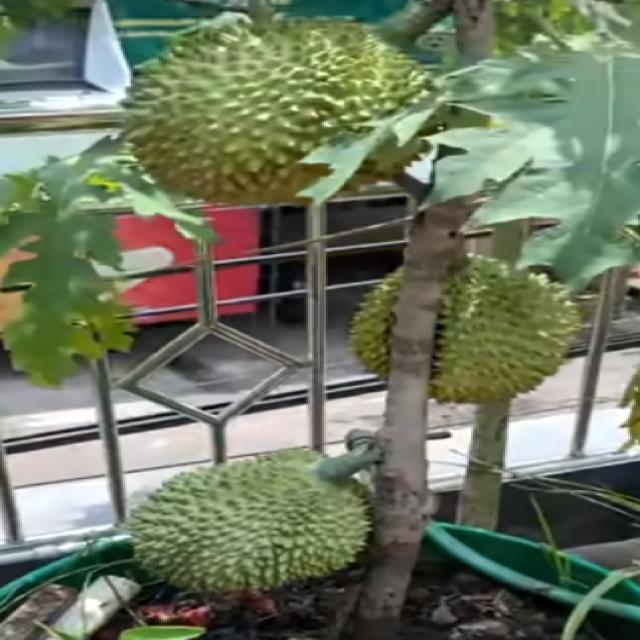immature: (120, 10, 445, 208), (347, 255, 578, 407), (127, 452, 380, 590)
